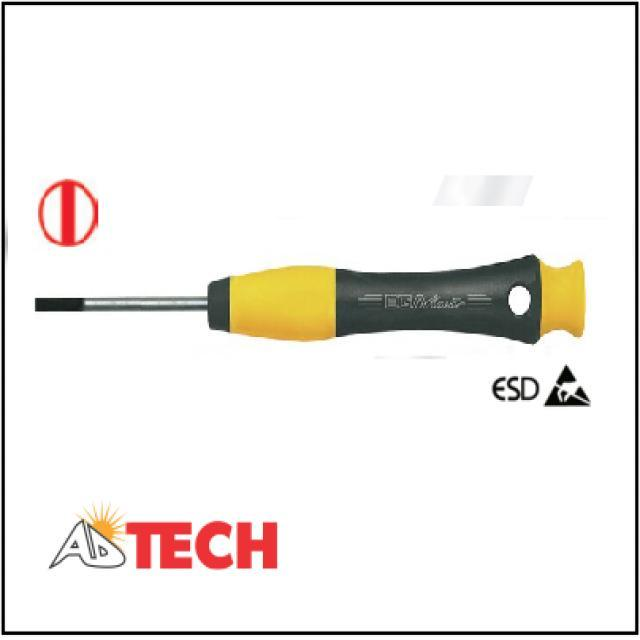screwdriver: (16, 250, 588, 349)
